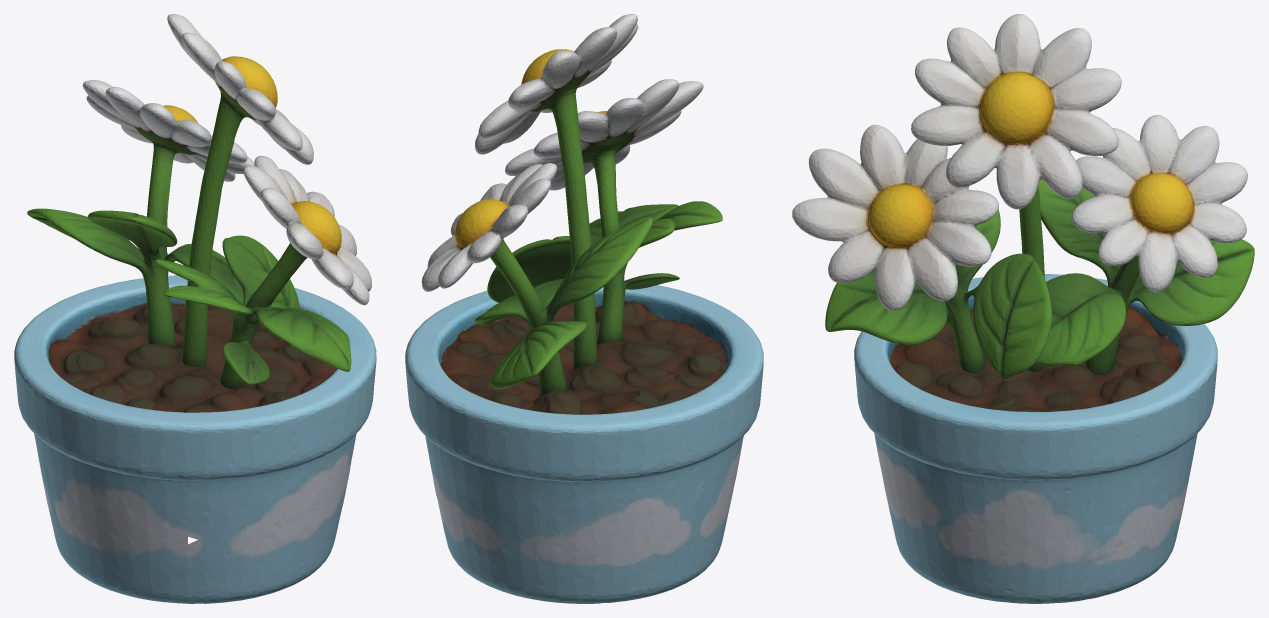
The model's file is flower_5.glb.
3 renders of one model, left to right at view 1: azimuth 30°, elevation 25°; view 2: azimuth 150°, elevation 25°; view 3: azimuth 270°, elevation 25°, orthographic.
Parts seen in each view (by area): view 1: tripo_node_e96c2ed7-42df-4018-b970-dd3afad9df81; view 2: tripo_node_e96c2ed7-42df-4018-b970-dd3afad9df81; view 3: tripo_node_e96c2ed7-42df-4018-b970-dd3afad9df81.
Boxes of the visible parts, box(x1,y1,x2,y2) form: tripo_node_e96c2ed7-42df-4018-b970-dd3afad9df81: box(14, 14, 376, 603); tripo_node_e96c2ed7-42df-4018-b970-dd3afad9df81: box(405, 14, 763, 603); tripo_node_e96c2ed7-42df-4018-b970-dd3afad9df81: box(792, 14, 1254, 603).
Bounding box in the file's own units: 0.6234 × 1 × 0.7936.
Materials: 1 (1 with a texture image).
